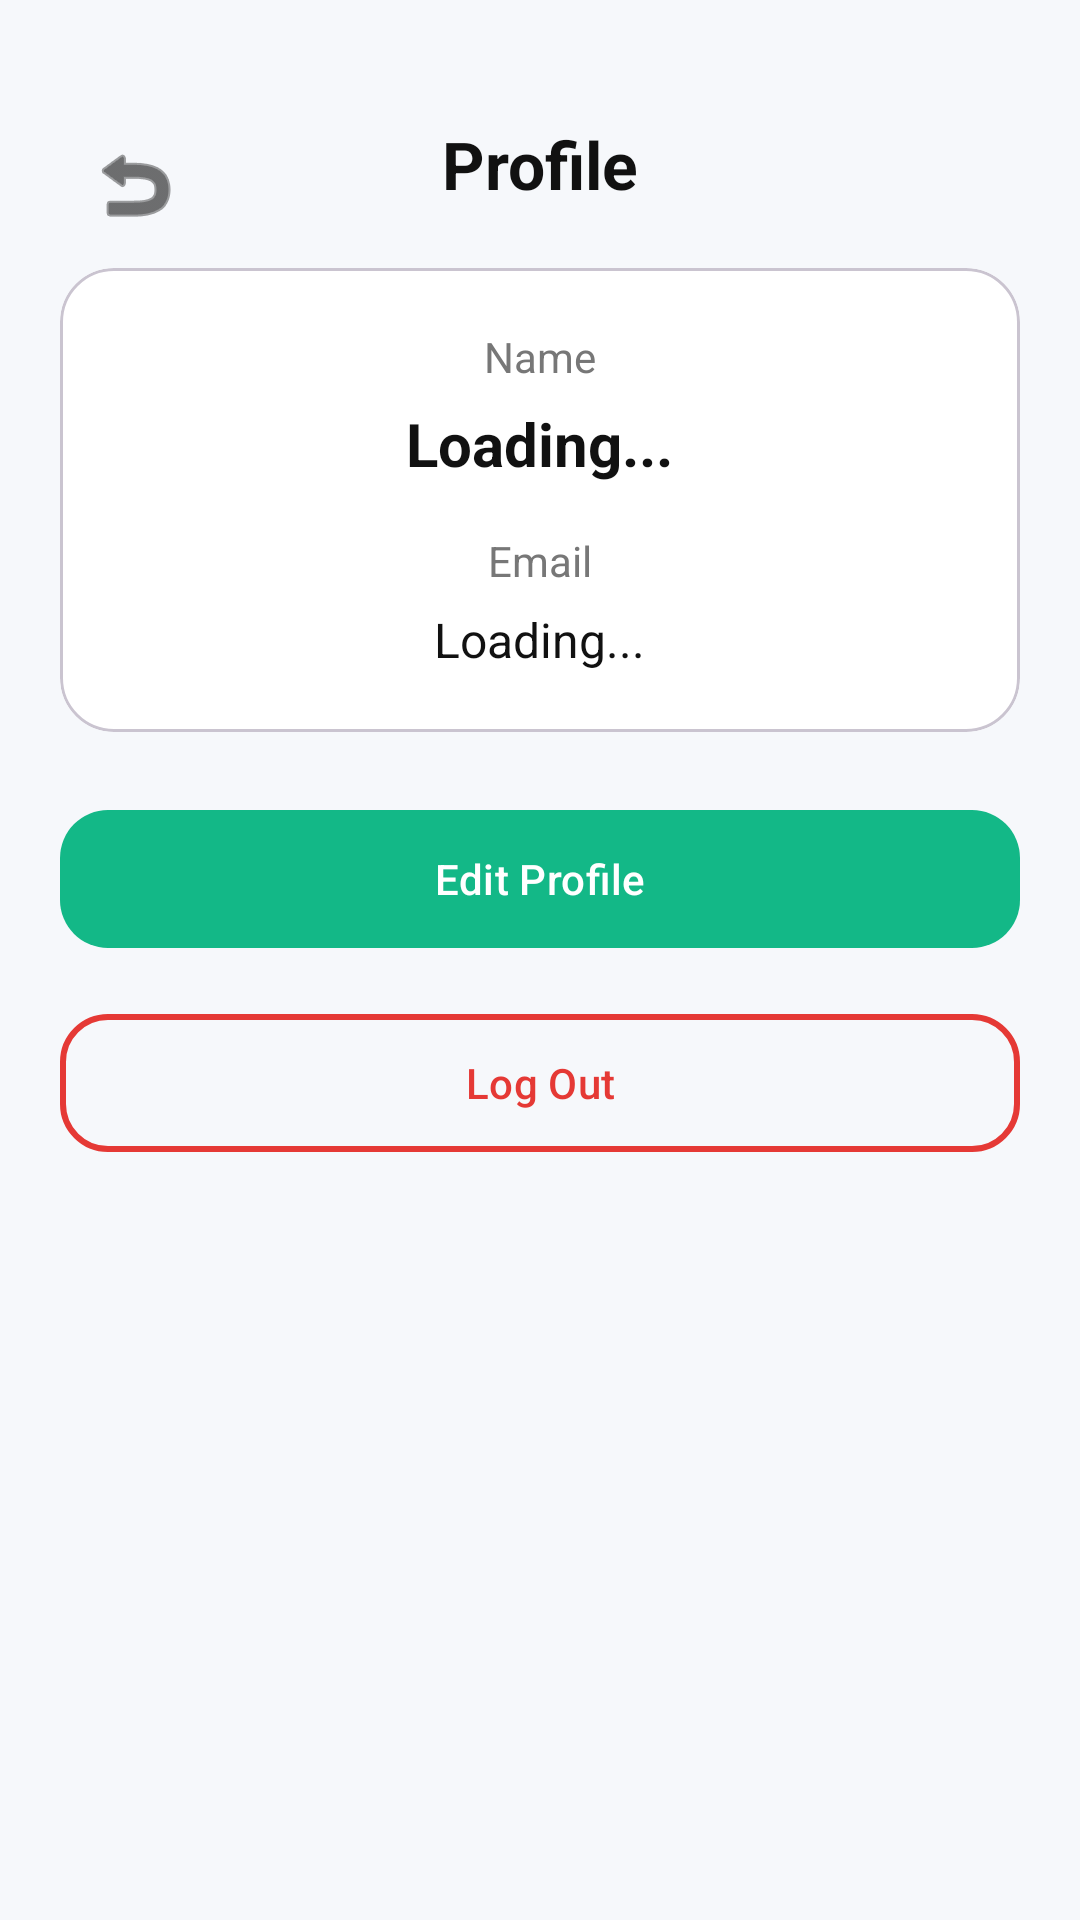

Locate icon controls on the screen. Image size 1080 × 1920, boxes as [x1, y1, x2, y2].
Back: [102, 154, 171, 217]
